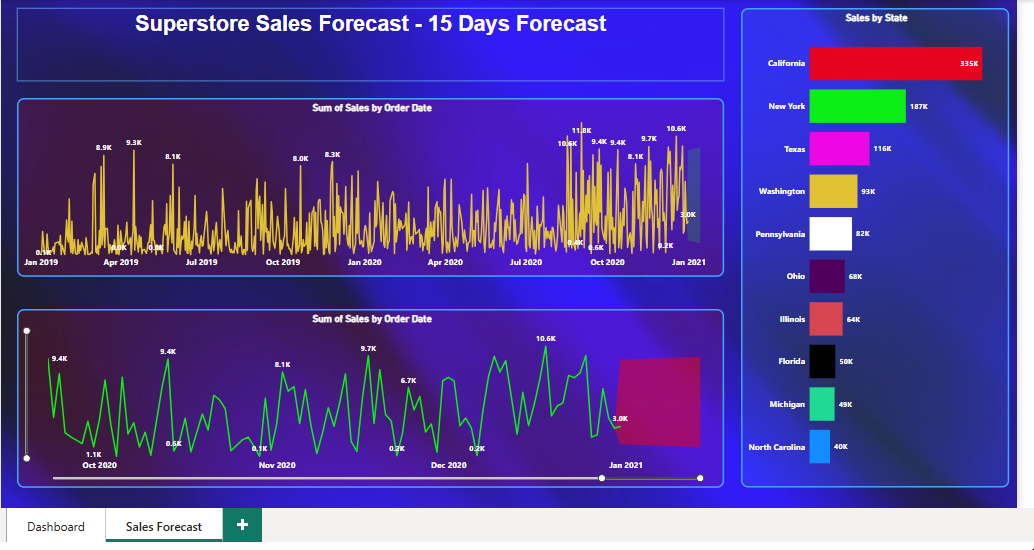

Layout of this report page (visuals, bound fields, positions):
{"tool":"powerbi","page":{"name":"Sales Forecast","canvas":[2000,1000],"ordinal":1},"visuals":[{"type":"lineChart","fields":{"Y":["Sum(SuperStore_Sales_Dataset (2).Sales)"],"Category":["SuperStore_Sales_Dataset (2).Order Date"]},"box":[32,608,1392,352],"z":0},{"type":"lineChart","fields":{"Y":["Sum(SuperStore_Sales_Dataset (2).Sales)"],"Category":["SuperStore_Sales_Dataset (2).Order Date"]},"box":[32,192,1392,352],"z":1000},{"type":"clusteredBarChart","title":"Sales by State","fields":{"Y":["Sum(SuperStore_Sales_Dataset (2).Sales)"],"Category":["SuperStore_Sales_Dataset (2).State"]},"box":[1456,16,528,944],"z":2000},{"type":"textbox","box":[32,16,1392,144],"z":3000}]}

Visuals, with their boxes in screenshot pixels (x1, y1, x2, y2):
lineChart - Sum(SuperStore_Sales_Dataset (2).Sales) x SuperStore_Sales_Dataset (2).Order Date: 16/323/726/503
lineChart - Sum(SuperStore_Sales_Dataset (2).Sales) x SuperStore_Sales_Dataset (2).Order Date: 16/111/726/291
"Sales by State" clusteredBarChart: 742/22/1012/503
textbox: 16/22/726/95
